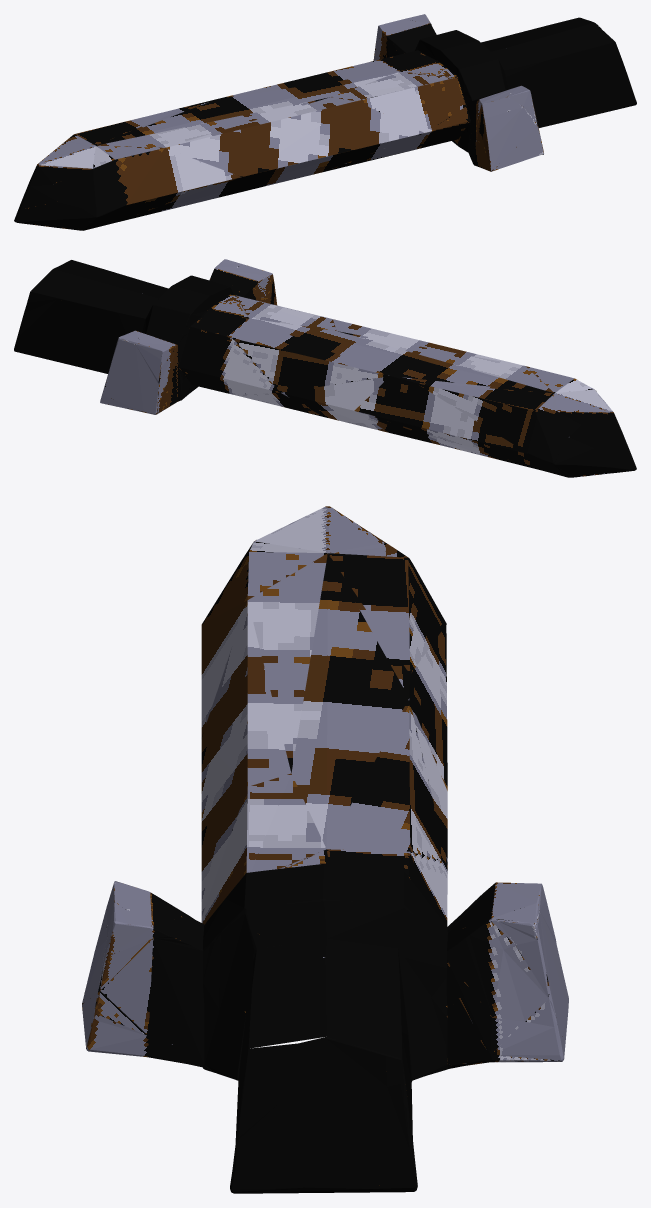
3 views of the same model, one above another, from view 1: azimuth 30°, elevation 25°; view 2: azimuth 150°, elevation 25°; view 3: azimuth 270°, elevation 25° (orthographic). The views are drawn at different scales.
Parts seen in each view (by area): view 1: OBJ003; view 2: OBJ003; view 3: OBJ003.
Part boxes in pixels (x1,y1,x2,y2): OBJ003: [14, 14, 636, 230]; OBJ003: [14, 259, 636, 477]; OBJ003: [82, 506, 568, 1193].
Size of the model in its own units: 0.3454 by 0.0451 by 0.1218.
1 material, 1 textured.
